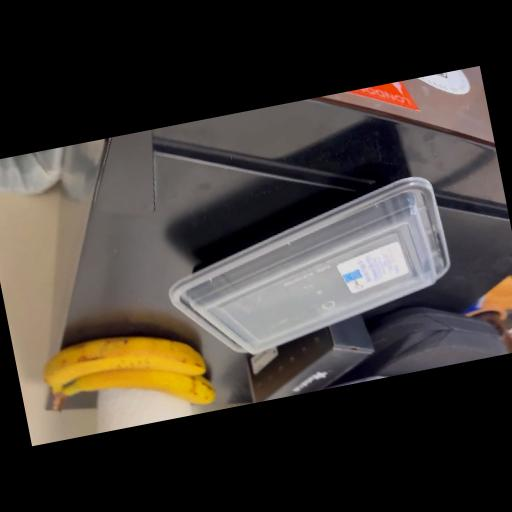rigid_plastic_container: (144, 164, 477, 374)
